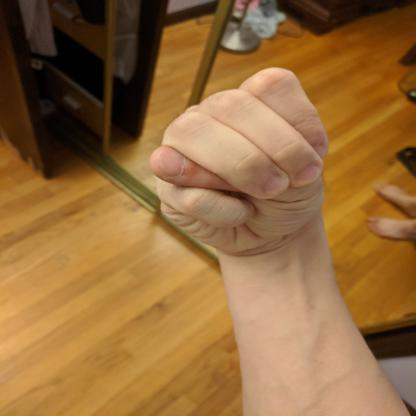M: (142, 64, 340, 255)
